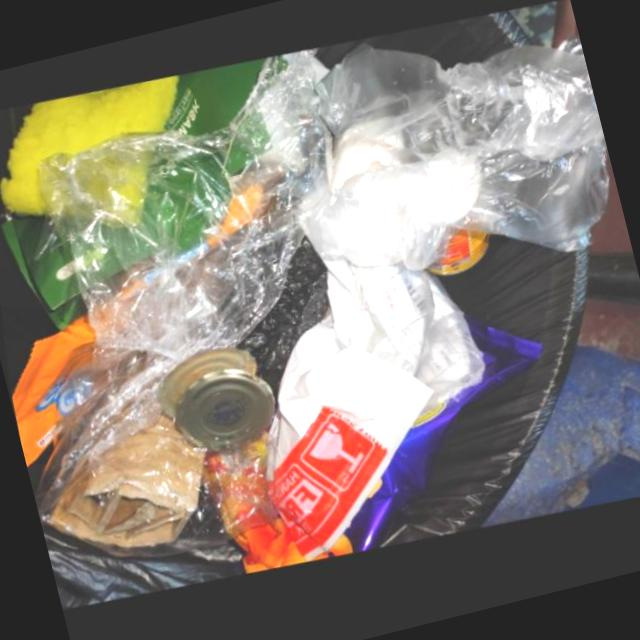bao_bi_thuc_pham: (231, 317, 540, 576), (8, 315, 92, 466)
carton: (0, 61, 264, 330)
nhom: (169, 372, 273, 455), (154, 349, 254, 420), (424, 234, 488, 278)
tui_ni_long: (294, 44, 607, 274)
